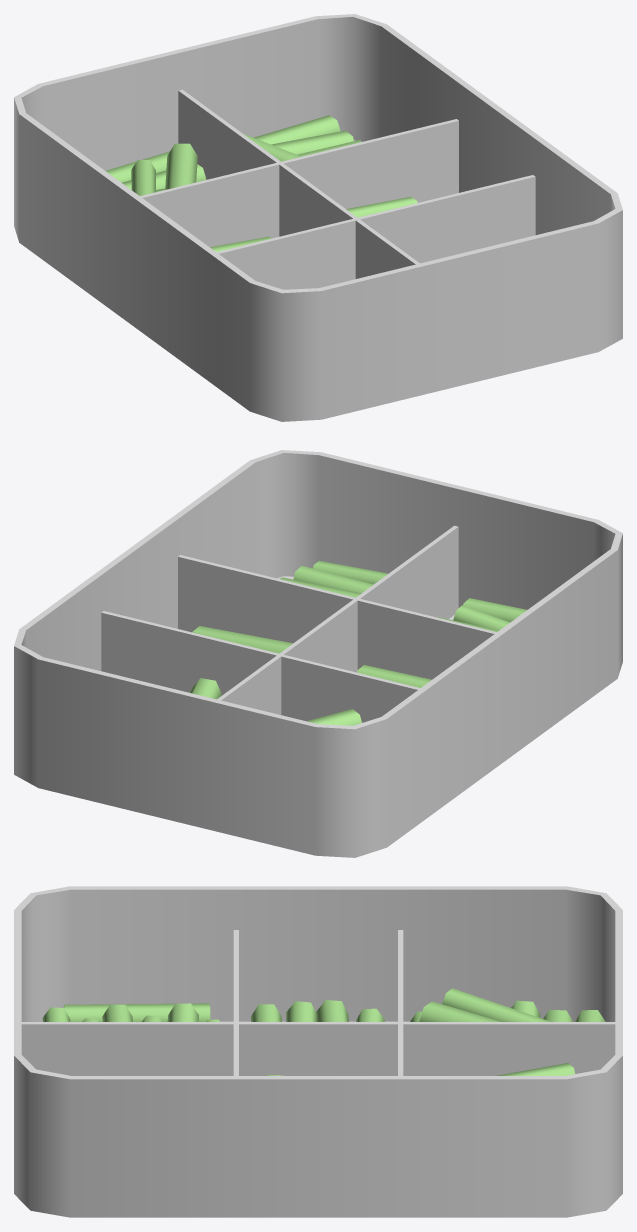
File: Fusibles.fbx
The picture shows the model from 3 angles, top to bottom: view 1: azimuth 30°, elevation 25°; view 2: azimuth 150°, elevation 25°; view 3: azimuth 270°, elevation 25°; orthographic projection. The views are drawn at different scales.
Parts seen in each view (by area): view 1: BoiteFusible; view 2: BoiteFusible; view 3: BoiteFusible.
Part boxes in pixels (bbox=[...]): BoiteFusible: bbox=[14, 14, 622, 421]; BoiteFusible: bbox=[14, 450, 622, 857]; BoiteFusible: bbox=[14, 886, 622, 1217].
Size of the model in its own units: 15 by 5.03 by 20.
